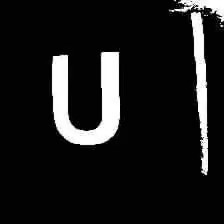LTR_U: (42, 45, 133, 153)
